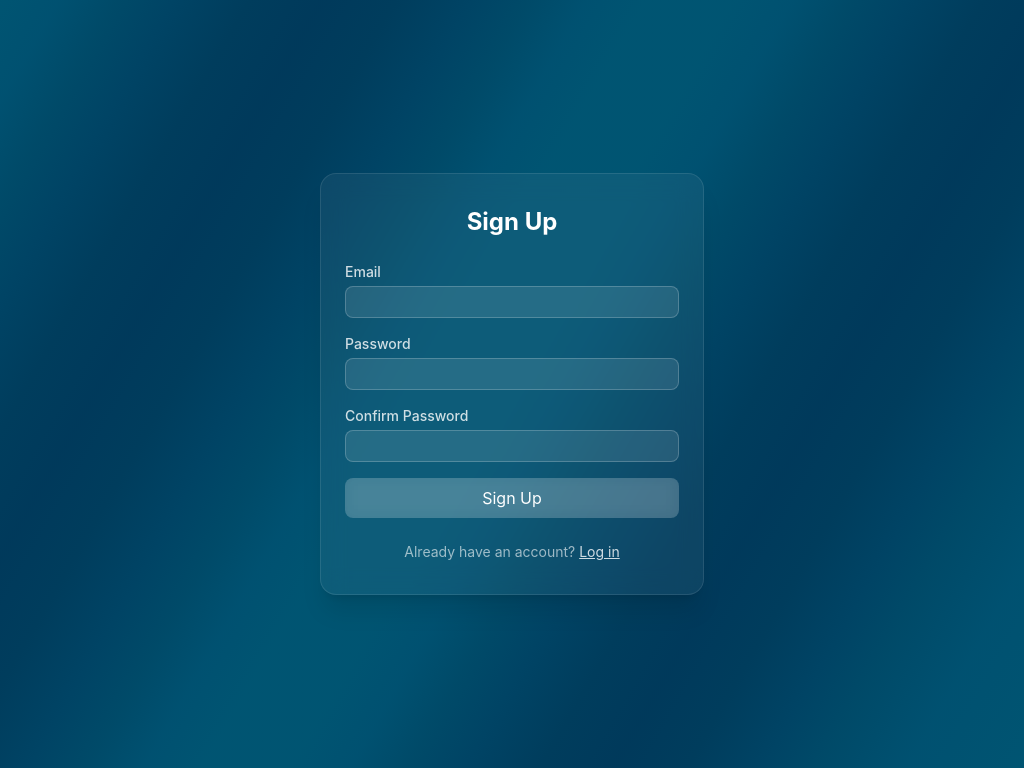
Test: SignupPage › shows error when password is too short
Step 1. Type "new@example.com" into the field labelled "Email" → (512, 302), box [345, 286, 679, 318]
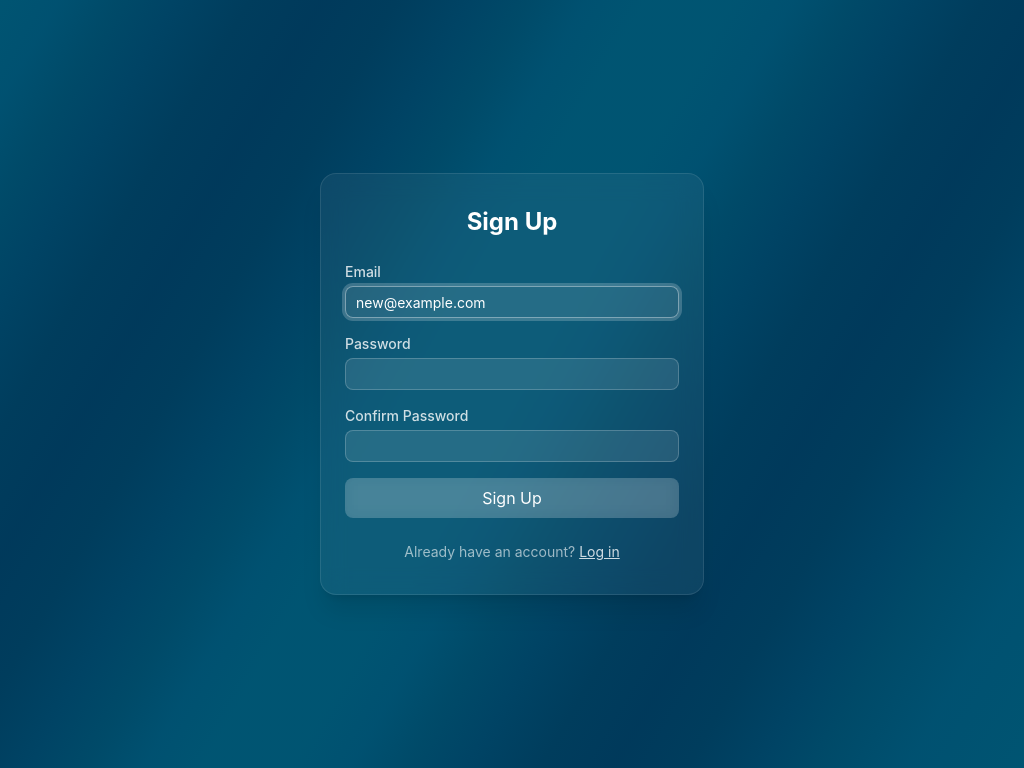
Step 2. Type "short" into the password field labelled "Password" → (512, 374), box [345, 358, 679, 390]
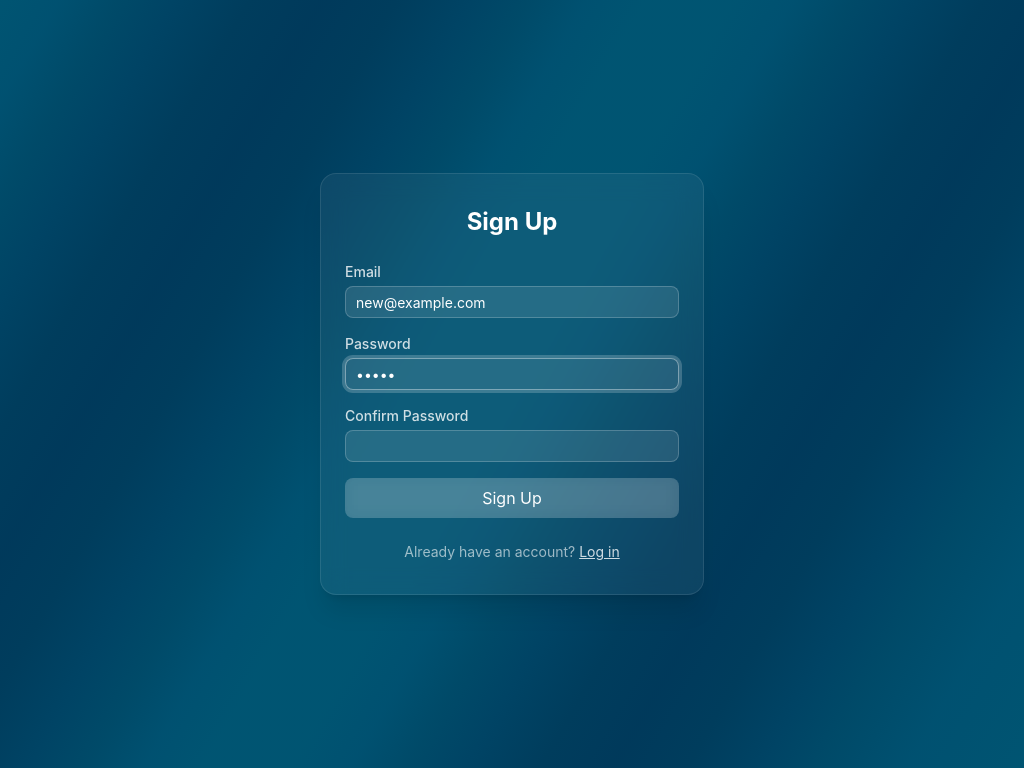
Step 3. Type "short" into the password field labelled "Confirm Password" → (512, 446), box [345, 430, 679, 462]
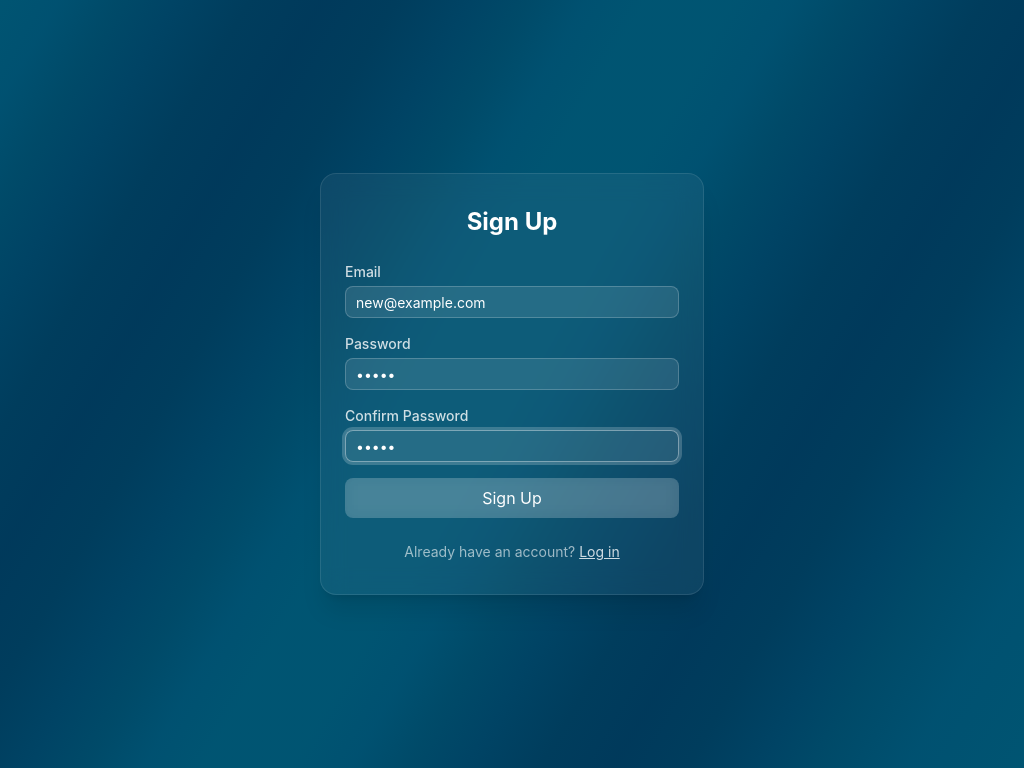
Step 4. Click the button "Sign Up" → (512, 498), box [345, 478, 679, 518]
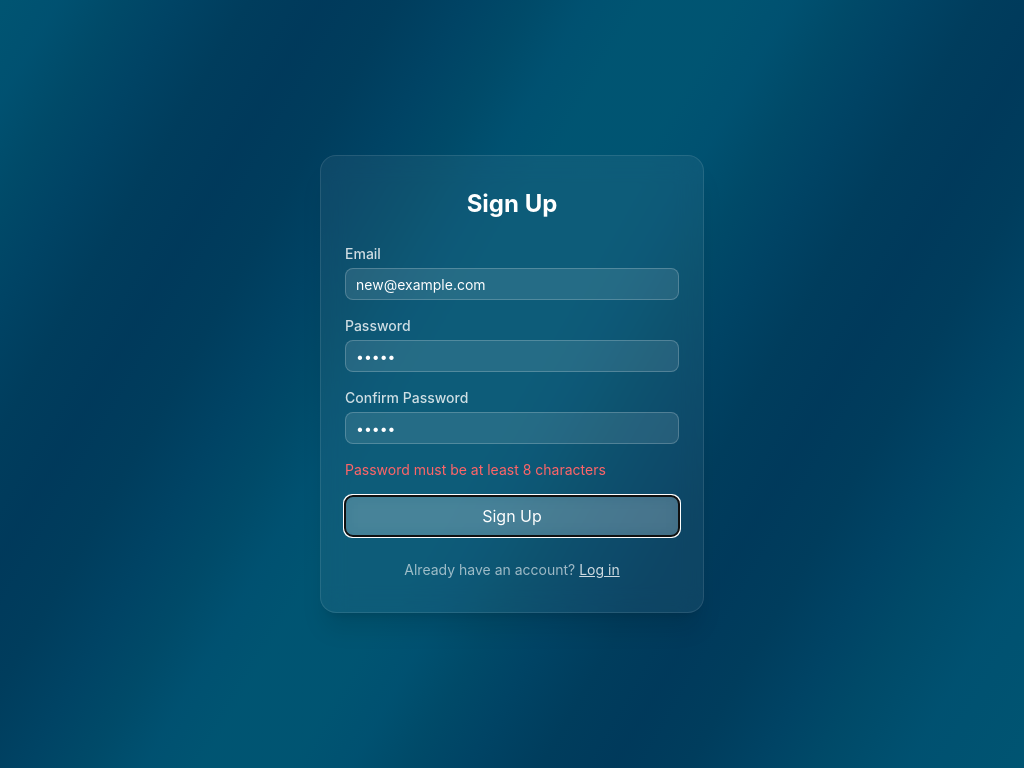
Expected: the text "Password must be at least 8 characters" is shown, [345, 461, 606, 478]
